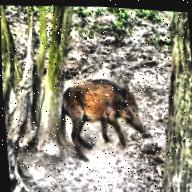boar: (59, 70, 164, 160)
